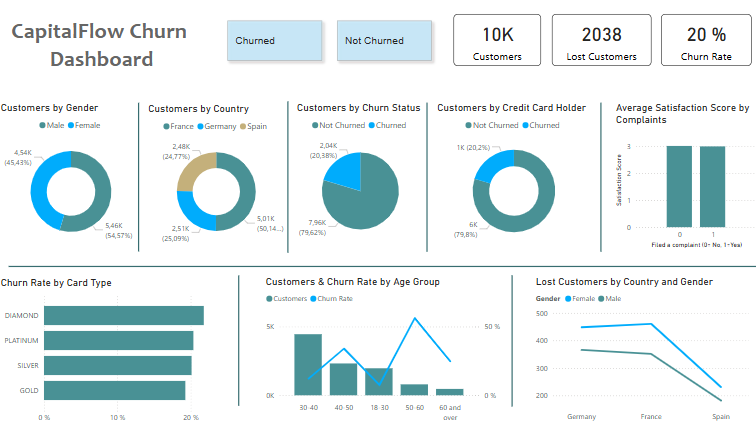

What the dashboard file says about the page in this screenshot:
{"tool":"powerbi","page":{"name":"Page 1","canvas":[1280,720],"ordinal":0},"visuals":[{"type":"card","fields":{"Values":["CountNonNull(Customer-Churn-Records.CustomerId)"]},"box":[767.2,29.5,145.9,86.9],"z":0},{"type":"card","fields":{"Values":["Sum(Customer-Churn-Records.Exited)"]},"box":[932.8,29.5,165.6,86.9],"z":1000},{"type":"card","fields":{"Values":["Customer-Churn-Records.Churn rate"]},"box":[1114.8,29.5,150.8,86.9],"z":2000},{"type":"donutChart","title":"Customers by Gender","fields":{"Category":["Customer-Churn-Records.Gender"],"Y":["Count(Customer-Churn-Records.CustomerId)"]},"box":[7.7,175,244.2,251.9],"z":3000},{"type":"donutChart","title":"Customers by Country","fields":{"Category":["Customer-Churn-Records.Geography"],"Y":["CountNonNull(Customer-Churn-Records.CustomerId)"]},"box":[253.8,178.8,236.5,248.1],"z":4000},{"type":"lineClusteredColumnComboChart","title":"Customers & Churn Rate by Age Group","fields":{"Y":["CountNonNull(Customer-Churn-Records.CustomerId)"],"Category":["Customer-Churn-Records.Age Group"],"Y2":["Customer-Churn-Records.Churn Rate"]},"box":[449.2,465.6,401.6,252.5],"z":5000},{"type":"donutChart","title":"Customers by Credit Card Holder","fields":{"Y":["Sum(Customer-Churn-Records.HasCrCard)"],"Category":["Customer-Churn-Records.Exited - Copier"]},"box":[736.5,176.9,265.4,250],"z":6000},{"type":"clusteredBarChart","title":"Churn Rate by Card Type","fields":{"Y":["Customer-Churn-Records.Churn Rate"],"Category":["Customer-Churn-Records.Card Type"]},"box":[7.7,467.3,401.9,253.8],"z":7000},{"type":"lineChart","title":"Lost Customers by Country and Gender","fields":{"Y":["Sum(Customer-Churn-Records.Exited)"],"Category":["Customer-Churn-Records.Geography"],"Series":["Customer-Churn-Records.Gender"]},"box":[900,465.4,365.4,253.8],"z":8000},{"type":"clusteredColumnChart","title":"Average Satisfaction Score by Complaints","fields":{"Y":["Avg(Customer-Churn-Records.Satisfaction Score)"],"Category":["Customer-Churn-Records.Complain"]},"box":[1034.6,176.9,244.2,250],"z":9000},{"type":"advancedSlicerVisual","fields":{"Values":["Customer-Churn-Records.Exited - Copier"]},"box":[373.1,23.1,376.9,101.9],"z":10000},{"type":"pieChart","title":"Customers by Churn Status","fields":{"Category":["Customer-Churn-Records.Exited - Copier"],"Y":["Count(Customer-Churn-Records.CustomerId)"]},"box":[501.9,176.9,221.2,250],"z":11000},{"type":"shape","box":[161.5,178.8,161.5,248.1],"z":12000},{"type":"shape","box":[409.6,175,163.5,251.9],"z":13000},{"type":"shape","box":[642.3,178.8,163.5,248.1],"z":14000},{"type":"shape","box":[932.7,178.8,163.5,248.1],"z":15000},{"type":"shape","box":[25,325,1248.1,250],"z":16000},{"type":"shape","box":[328.8,465.4,163.5,217.3],"z":17000},{"type":"shape","box":[783.7,465.3,163.3,218.4],"z":18000},{"type":"textbox","box":[7.7,17.3,346.2,126.9],"z":19000}]}

Visuals, with their boxes in screenshot pixels (x1, y1, x2, y2), scaled from the page's 1280x720 canvas onto the 756x426 screenshot:
card - CountNonNull(Customer-Churn-Records.CustomerId): detection(453, 17, 539, 69)
card - Sum(Customer-Churn-Records.Exited): detection(551, 17, 649, 69)
card - Customer-Churn-Records.Churn rate: detection(658, 17, 747, 69)
"Customers by Gender" donutChart: detection(5, 104, 149, 253)
"Customers by Country" donutChart: detection(150, 106, 290, 253)
"Customers & Churn Rate by Age Group" lineClusteredColumnComboChart: detection(265, 275, 503, 425)
"Customers by Credit Card Holder" donutChart: detection(435, 105, 592, 253)
"Churn Rate by Card Type" clusteredBarChart: detection(5, 276, 242, 425)
"Lost Customers by Country and Gender" lineChart: detection(532, 275, 747, 425)
"Average Satisfaction Score by Complaints" clusteredColumnChart: detection(611, 105, 755, 253)
advancedSlicerVisual - Customer-Churn-Records.Exited - Copier: detection(220, 14, 443, 74)
"Customers by Churn Status" pieChart: detection(296, 105, 427, 253)
shape: detection(95, 106, 191, 253)
shape: detection(242, 104, 338, 253)
shape: detection(379, 106, 476, 253)
shape: detection(551, 106, 647, 253)
shape: detection(15, 192, 752, 340)
shape: detection(194, 275, 291, 404)
shape: detection(463, 275, 559, 405)
textbox: detection(5, 10, 209, 85)
